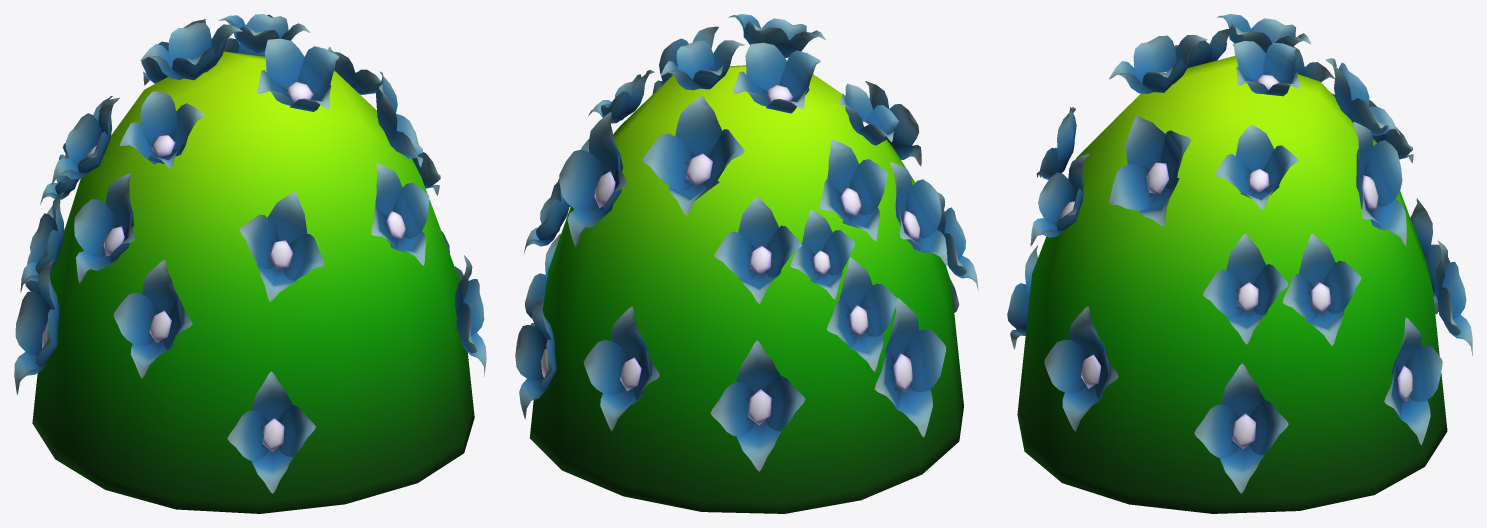
The model's file is Bush3_LOD0.fbx.
3 renders of one model, left to right at view 1: azimuth 30°, elevation 25°; view 2: azimuth 150°, elevation 25°; view 3: azimuth 270°, elevation 25°, orthographic.
Visible parts, largest first — view 1: Bush3; view 2: Bush3; view 3: Bush3.
Boxes of the visible parts, left/top/right/bottom form: Bush3: left=14, top=14, right=486, bottom=513; Bush3: left=515, top=14, right=978, bottom=513; Bush3: left=1007, top=14, right=1472, bottom=513.
Size of the model in its own units: 82.86 by 73.76 by 80.3.
